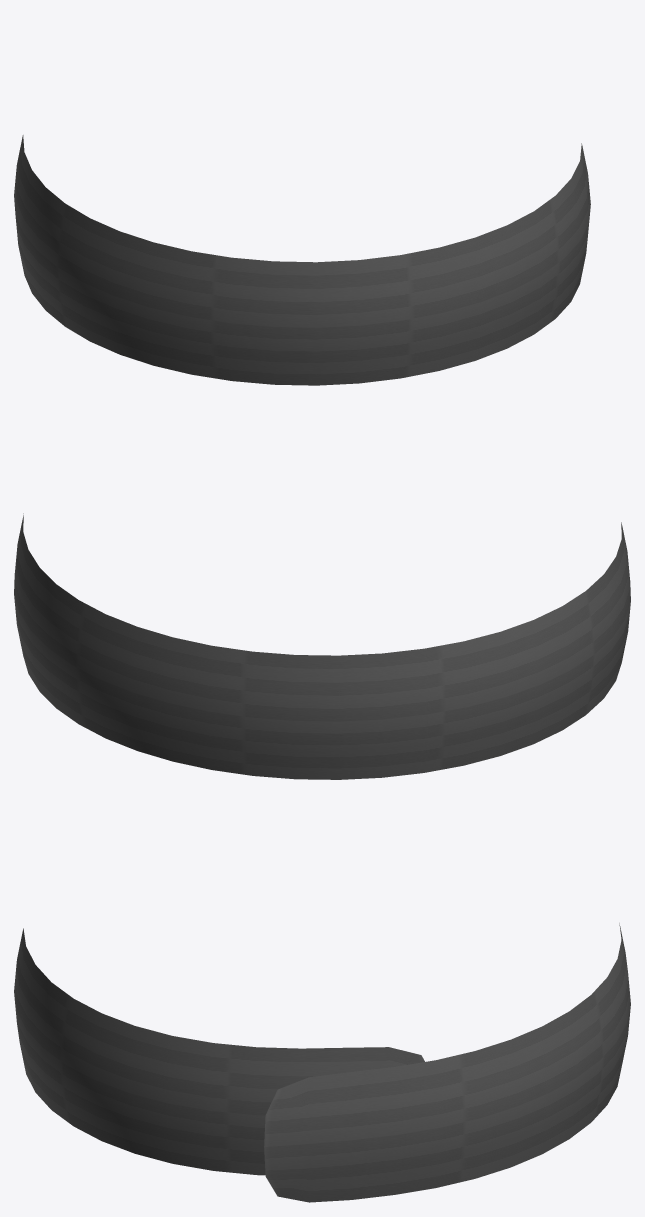
File: SM_Free_Magic_Spiral1.glb
3 renders of one model, top to bottom at view 1: azimuth 30°, elevation 25°; view 2: azimuth 150°, elevation 25°; view 3: azimuth 270°, elevation 25°, orthographic. The views are drawn at different scales.
Visible parts, largest first — view 1: node0; view 2: node0; view 3: node0.
Part boxes in pixels (x1,y1,x2,y2): node0: (14, 135, 590, 385); node0: (14, 513, 630, 779); node0: (14, 923, 630, 1202).
Bounding box in the file's own units: 1.97 × 0.4209 × 1.84.
Materials: 1 (1 with a texture image).
